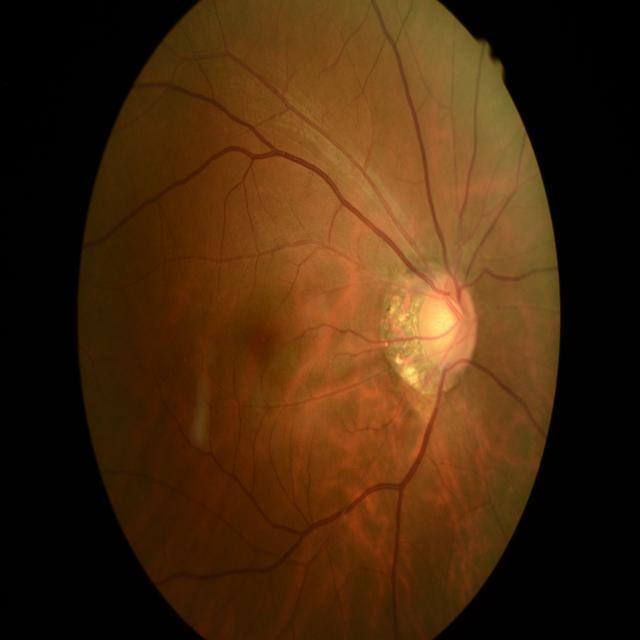cup: (433, 296, 462, 352)
disk: (418, 270, 478, 372)
